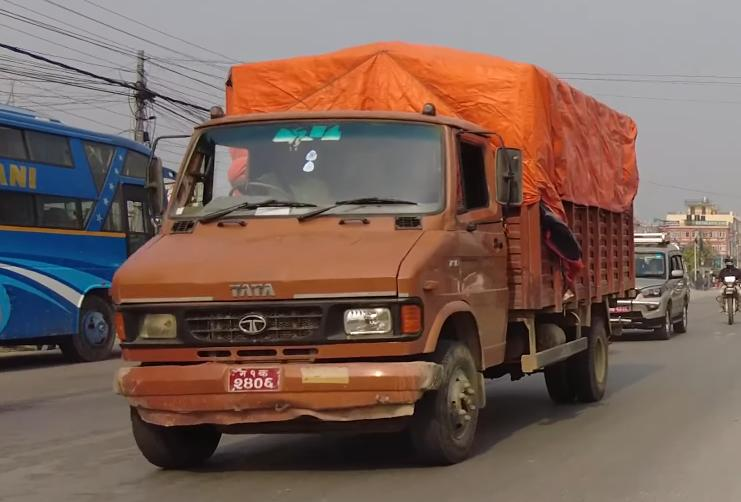SUV: (609, 205, 695, 350)
bike: (711, 237, 741, 340)
bus: (0, 95, 173, 385)
mini_truck: (106, 41, 640, 472)
